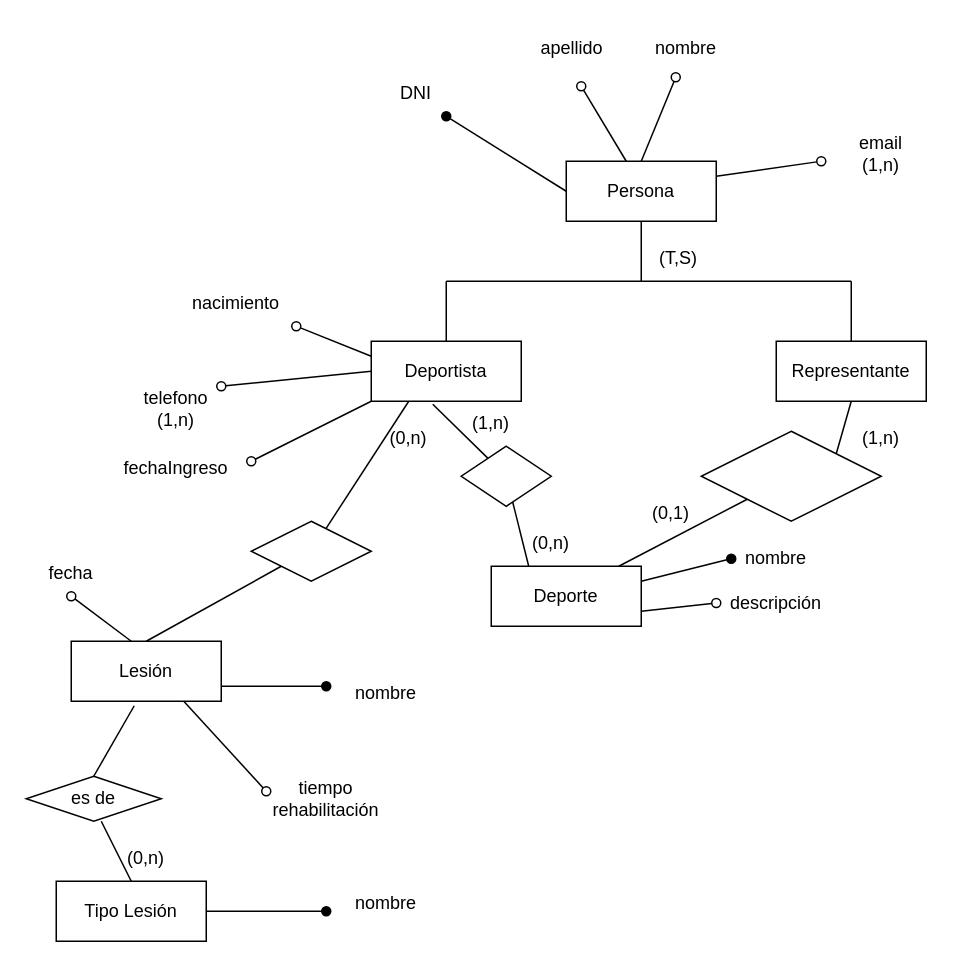
Some shapes in this 953 by 968 pixel diagram are drawn without their labels. Here are the shapes that lost their labels. From the top down, the box of each, then its label:
(460, 445, 551, 506): realiza
(700, 430, 881, 521): tiene
(250, 520, 371, 581): sufre
